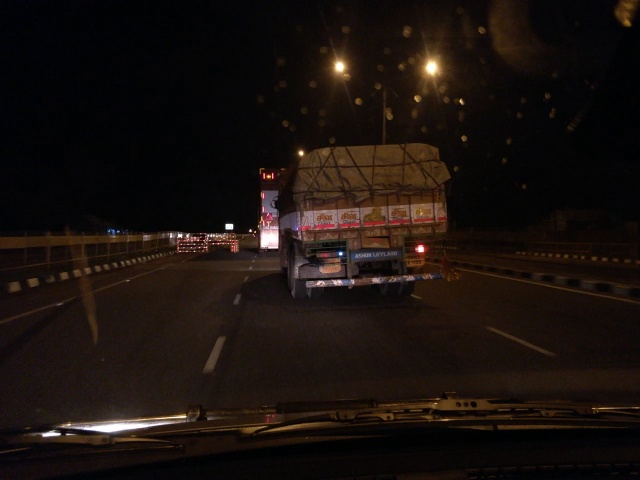bus: (255, 156, 279, 255)
truck: (279, 140, 460, 295)
